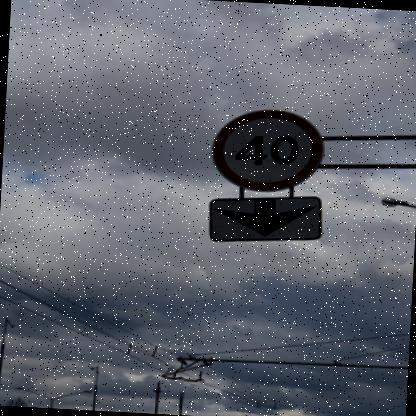speedlimit: (206, 104, 324, 194)
